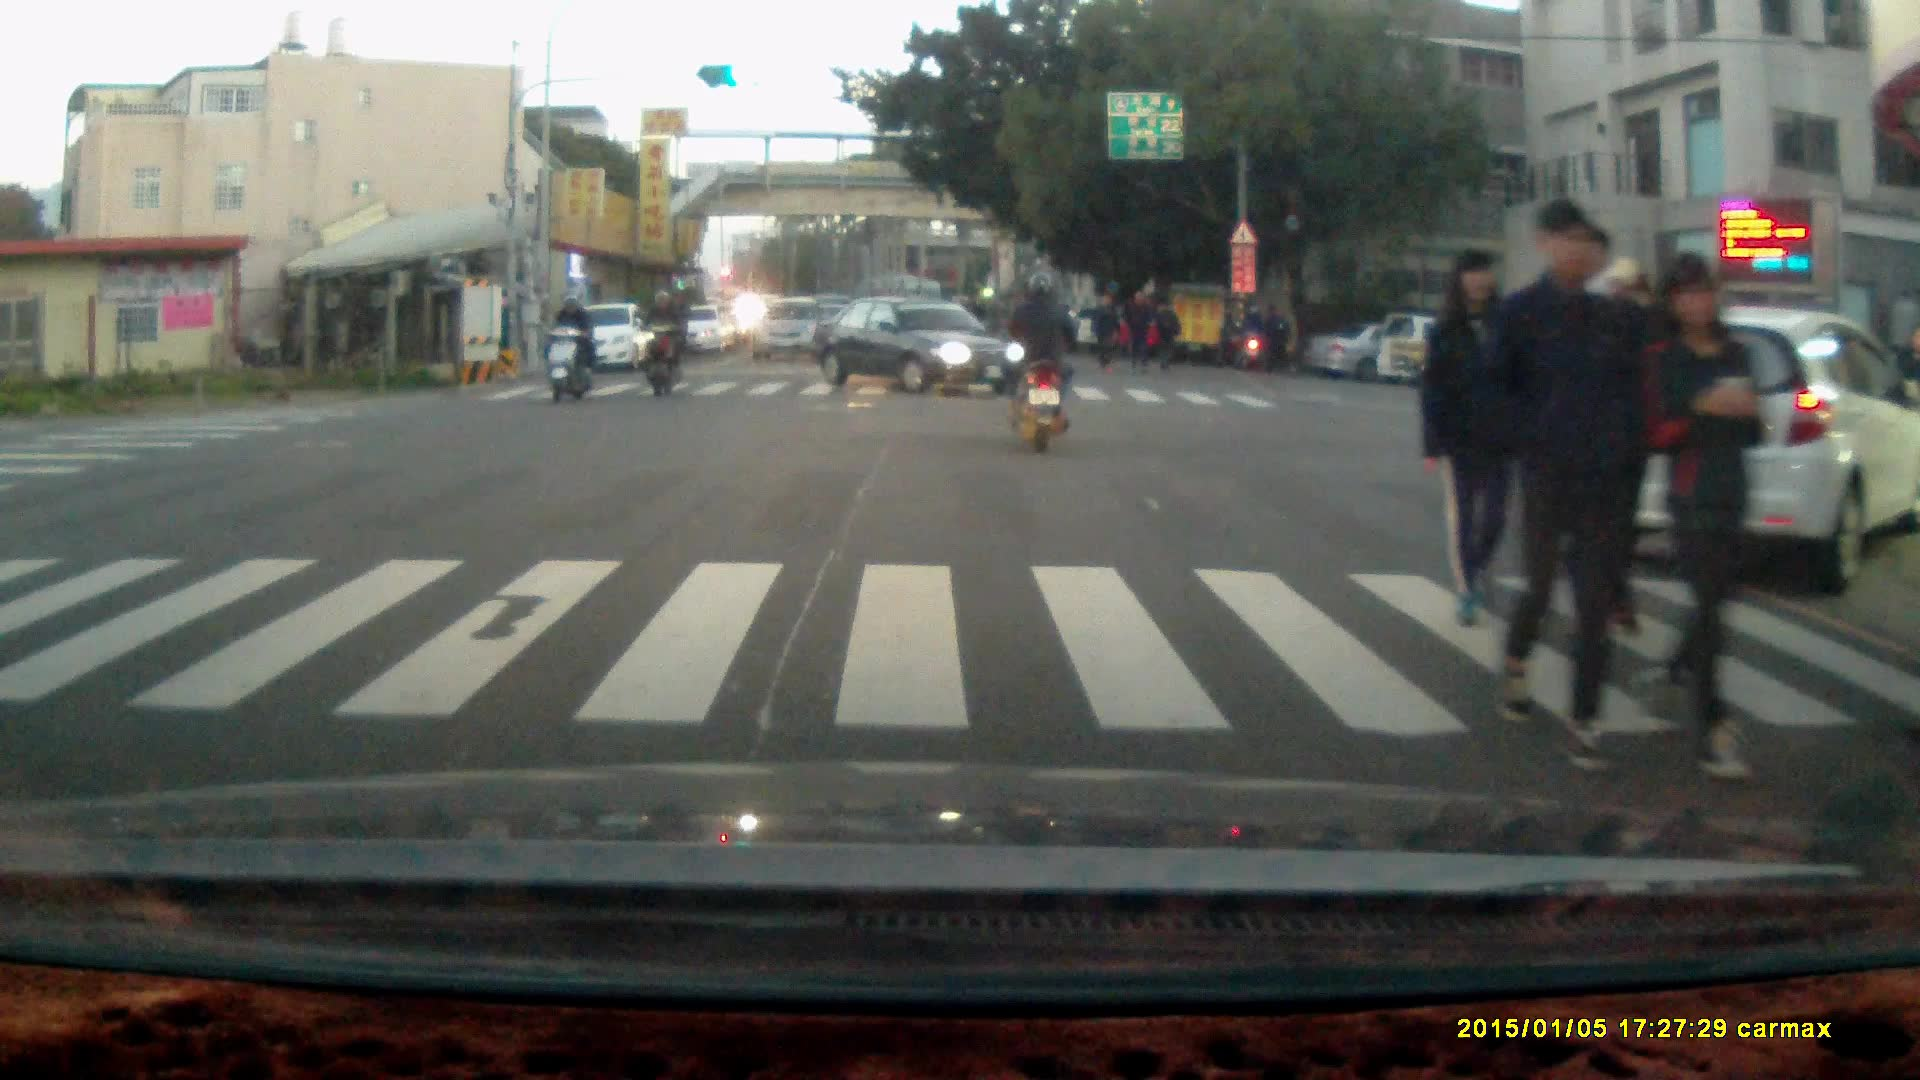pedestrian: (1474, 190, 1648, 778), (1636, 247, 1771, 782), (1418, 242, 1541, 630), (1121, 284, 1152, 375), (1147, 293, 1179, 376), (1257, 297, 1288, 374), (1090, 291, 1120, 373)
rider: (1005, 265, 1079, 451), (542, 283, 597, 402), (634, 282, 689, 395), (1229, 302, 1268, 367)
vehicle: (1589, 310, 1920, 604), (804, 289, 1036, 394), (1306, 314, 1473, 383), (555, 301, 659, 372), (748, 297, 832, 365)
